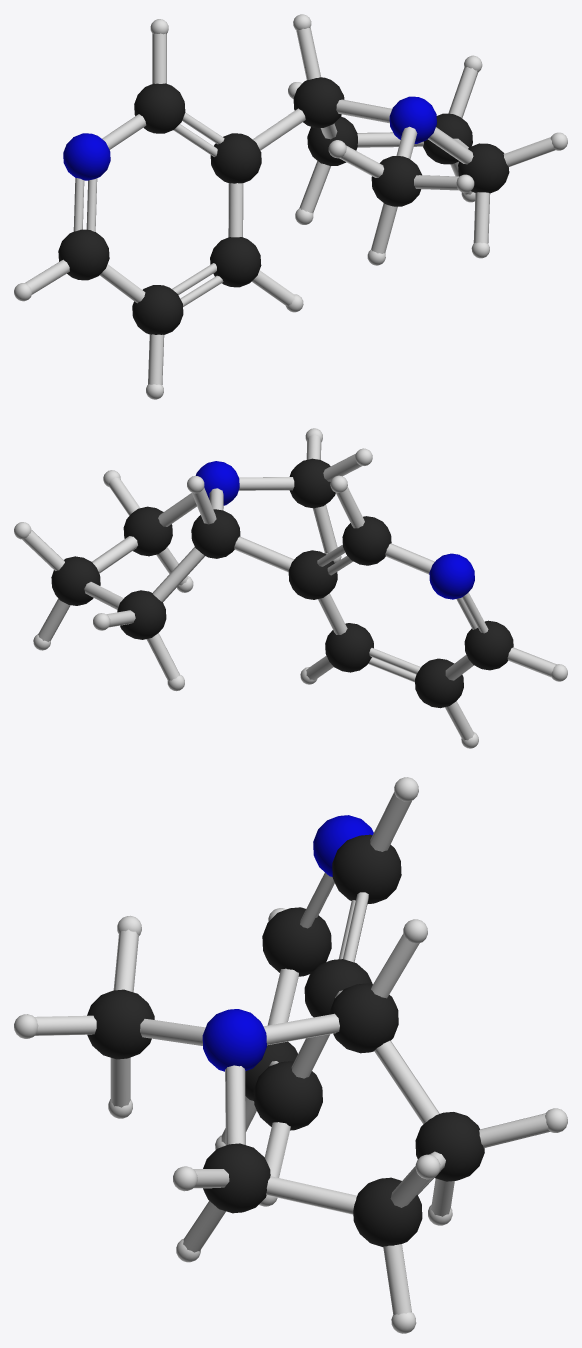
The model's file is nicotine.fbx.
3 views of the same model, one above another, from view 1: azimuth 30°, elevation 25°; view 2: azimuth 150°, elevation 25°; view 3: azimuth 270°, elevation 25° (orthographic). The views are drawn at different scales.
Parts seen in each view (by area): view 1: Group5, Group2, Group6, Group4, Group3, Group7, Group9, Group1, Group10, Group8, Group12, Group11 (+21 smaller); view 2: Group6, Group4, Group2, Group5, Group3, Group7, Group11, Group12, Group10, Group1, Group9, Group8 (+20 smaller); view 3: Group7, Group4, Group6, Group2, Group9, Group11, Group12, Group10, Group8, Group5, Group40, Group42 (+20 smaller).
Part boxes in pixels (bbox=[...]): Group5: bbox=[210, 133, 261, 183]; Group2: bbox=[58, 229, 109, 280]; Group6: bbox=[134, 83, 185, 133]; Group4: bbox=[210, 237, 261, 287]; Group3: bbox=[132, 285, 183, 334]; Group7: bbox=[293, 77, 344, 127]; Group9: bbox=[371, 156, 421, 206]; Group1: bbox=[63, 133, 110, 180]; Group10: bbox=[458, 143, 509, 193]; Group8: bbox=[389, 96, 436, 143]; Group12: bbox=[307, 116, 357, 165]; Group11: bbox=[423, 113, 472, 164]; Group6: bbox=[342, 516, 391, 565]; Group4: bbox=[325, 623, 373, 672]; Group2: bbox=[464, 620, 513, 670]; Group5: bbox=[288, 550, 337, 599]; Group3: bbox=[415, 658, 463, 708]; Group7: bbox=[191, 509, 240, 558]; Group11: bbox=[51, 556, 100, 605]; Group12: bbox=[117, 590, 166, 639]; Group10: bbox=[123, 506, 172, 556]; Group1: bbox=[429, 553, 474, 599]; Group9: bbox=[289, 458, 335, 508]; Group8: bbox=[196, 461, 239, 505]; Group7: bbox=[329, 983, 398, 1053]; Group4: bbox=[253, 1061, 322, 1130]; Group6: bbox=[332, 834, 401, 904]; Group2: bbox=[262, 907, 331, 976]; Group9: bbox=[87, 989, 154, 1059]; Group11: bbox=[353, 1177, 422, 1246]; Group12: bbox=[415, 1112, 484, 1181]; Group10: bbox=[203, 1143, 270, 1213]; Group8: bbox=[202, 1009, 266, 1071]; Group5: bbox=[304, 959, 372, 1017]; Group40: bbox=[266, 1176, 356, 1214]; Group42: bbox=[374, 1040, 439, 1123].
Bounding box in the file's own units: 637 × 367 × 432.
